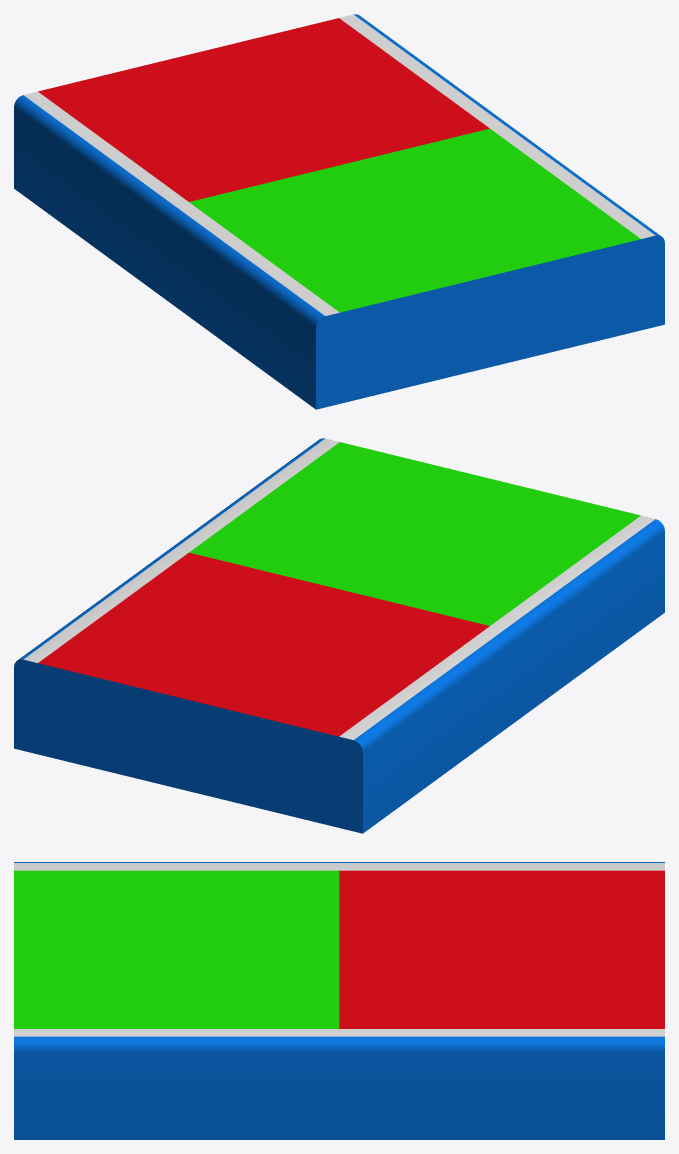
File: DarYol_Duz.fbx
3 renders of one model, top to bottom at view 1: azimuth 30°, elevation 25°; view 2: azimuth 150°, elevation 25°; view 3: azimuth 270°, elevation 25°, orthographic. The views are drawn at different scales.
Parts seen in each view (by area): view 1: DarYol_Duz; view 2: DarYol_Duz; view 3: DarYol_Duz.
Part boxes in pixels (left/top/right/bottom): DarYol_Duz: left=14, top=14, right=664, bottom=409; DarYol_Duz: left=14, top=438, right=664, bottom=833; DarYol_Duz: left=14, top=862, right=664, bottom=1139.
Size of the model in its own units: 600 by 150 by 900.
